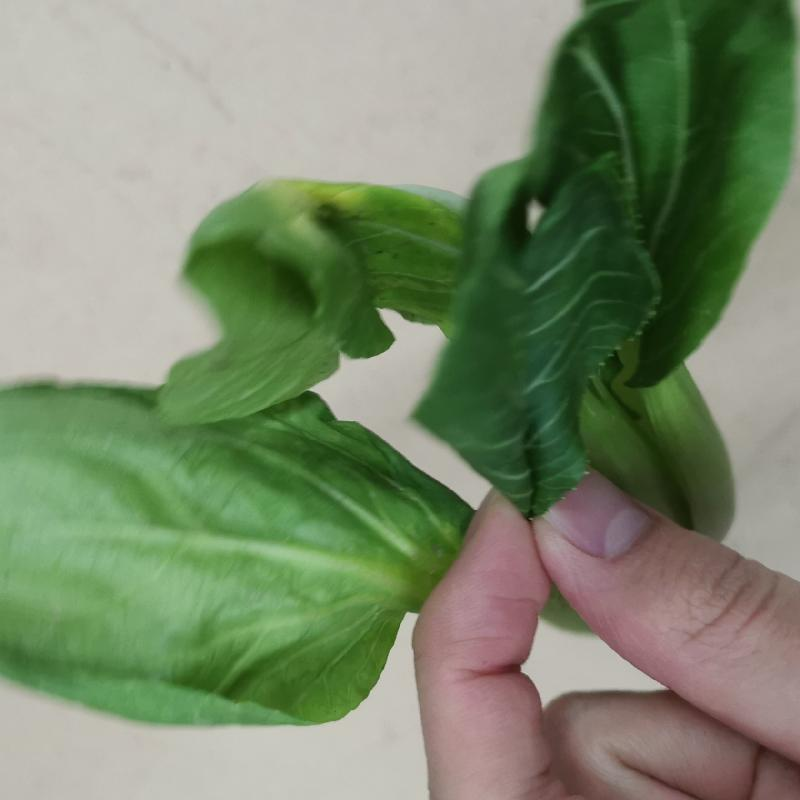green vegatable: (4, 1, 796, 723)
